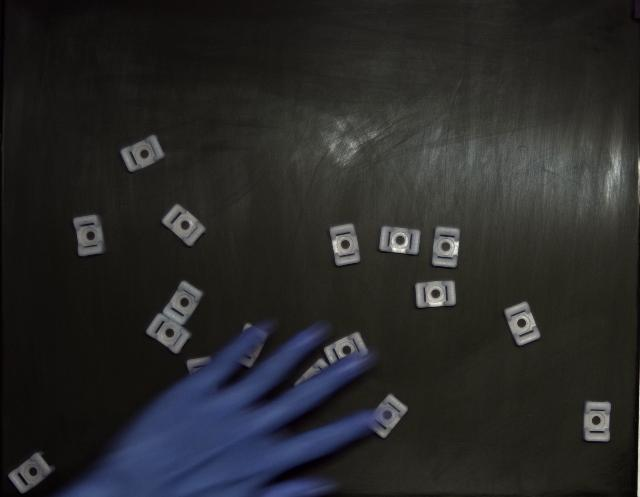first_side: (9, 452, 55, 494), (162, 205, 206, 246), (120, 135, 165, 172), (504, 302, 540, 346), (72, 215, 105, 256), (330, 224, 360, 266), (379, 226, 420, 255), (432, 226, 460, 268), (415, 281, 456, 309), (584, 401, 611, 442)
